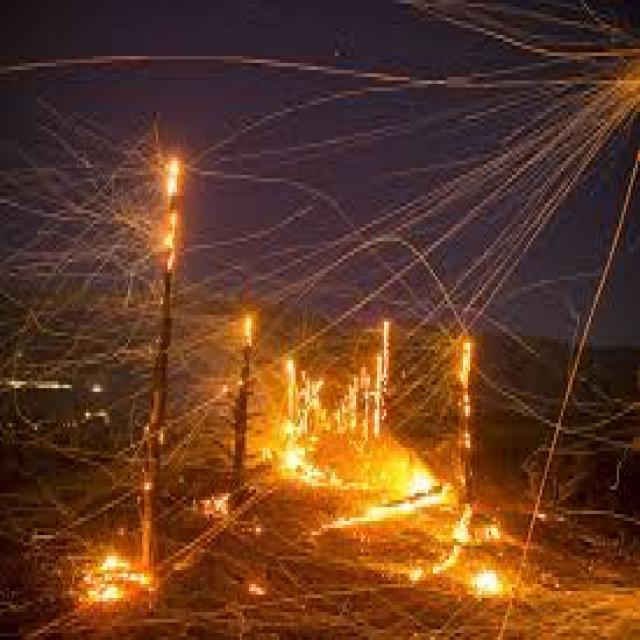Fire: (147, 137, 193, 286), (348, 464, 444, 530), (84, 527, 140, 634), (280, 342, 322, 432), (372, 309, 398, 443), (454, 330, 476, 459), (278, 438, 335, 482), (470, 558, 502, 614), (238, 303, 260, 359), (204, 492, 238, 524), (249, 570, 265, 606)
